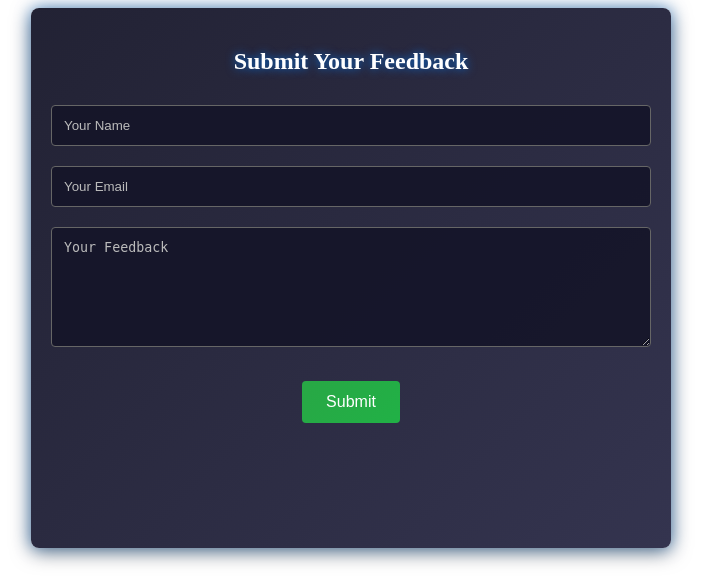
FeedbackForm › displays an error message on failure
Step 1. Type "John Doe" into the field with placeholder "Your Name" → (351, 125), box [51,105,651,146]
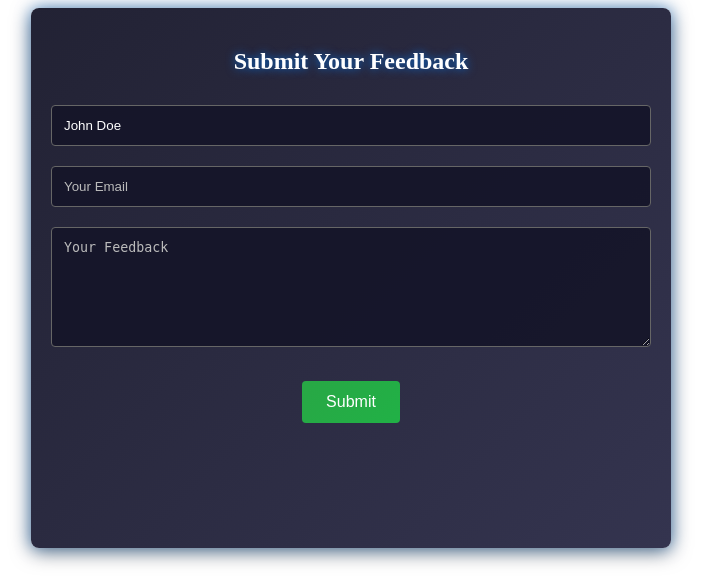
Step 2. Type "john@example.com" into the field with placeholder "Your Email" → (351, 186), box [51,166,651,207]
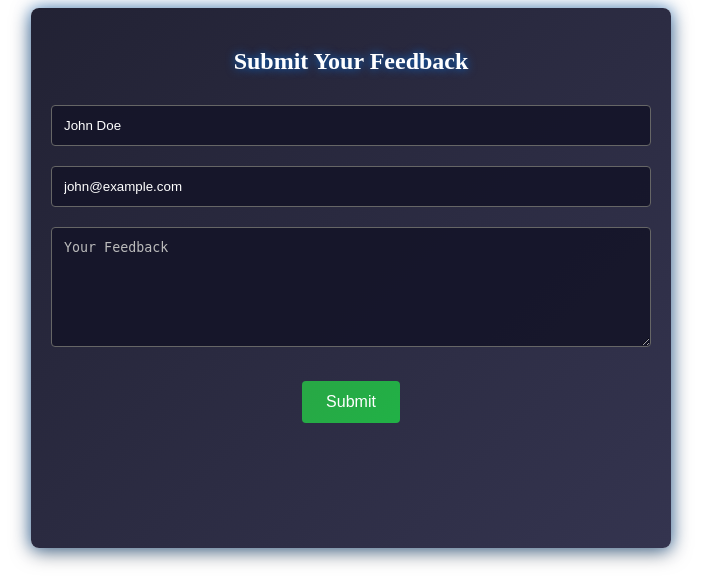
Step 3. Type "Great site!" into the text box with placeholder "Your Feedback" → (351, 287), box [51,227,651,347]
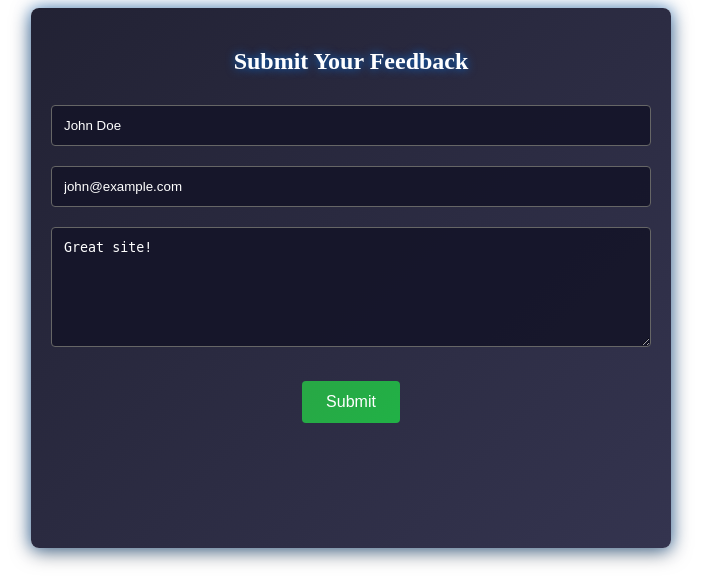
Step 4. Click the button "Submit" → (351, 402), box [302,381,400,423]
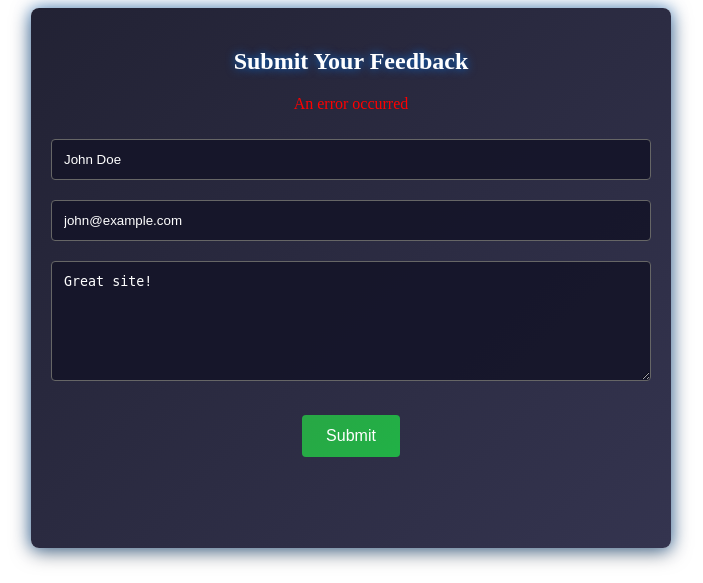
Result: the text "An error occurred" is shown at [294,95,408,112]
